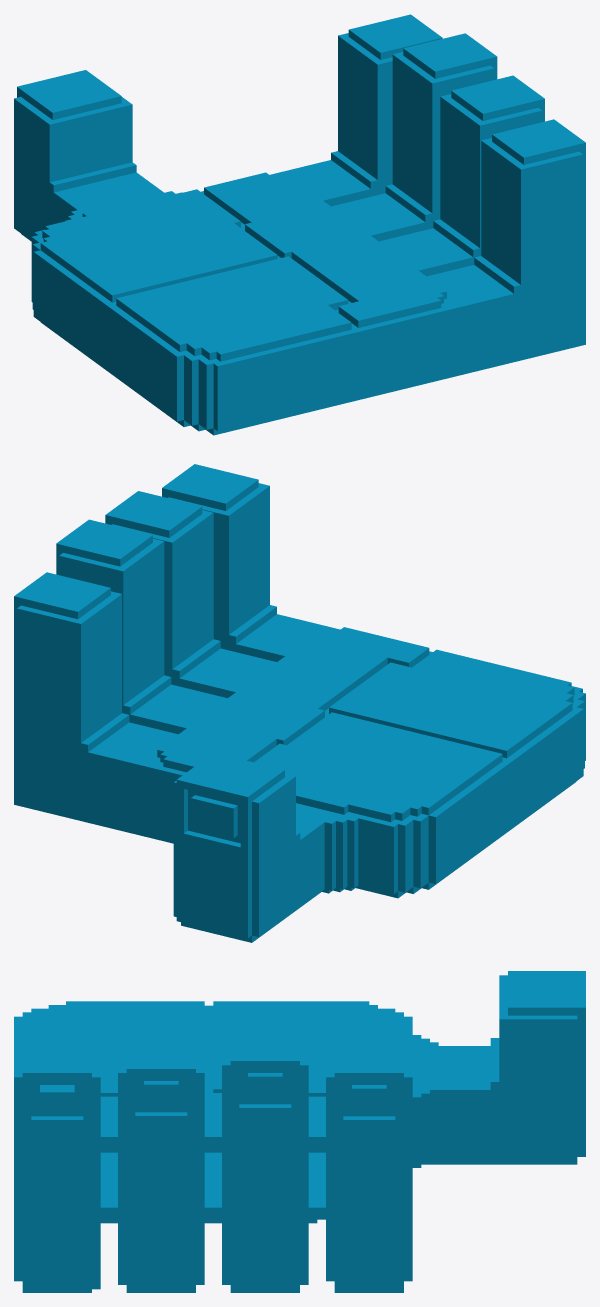
The model's file is Tlaloc-2-Tlaloc_LHand.obj.
3 renders of one model, top to bottom at view 1: azimuth 30°, elevation 25°; view 2: azimuth 150°, elevation 25°; view 3: azimuth 270°, elevation 25°, orthographic. The views are drawn at different scales.
Parts seen in each view (by area): view 1: Tlaloc_LHand; view 2: Tlaloc_LHand; view 3: Tlaloc_LHand.
Boxes of the visible parts, x1=… form: Tlaloc_LHand: x1=14, y1=14, x2=585, y2=435; Tlaloc_LHand: x1=14, y1=464, x2=585, y2=942; Tlaloc_LHand: x1=14, y1=971, x2=585, y2=1292.
Bounding box in the file's own units: 5.8 × 3 × 6.6.
Materials: 1 (1 with a texture image).
